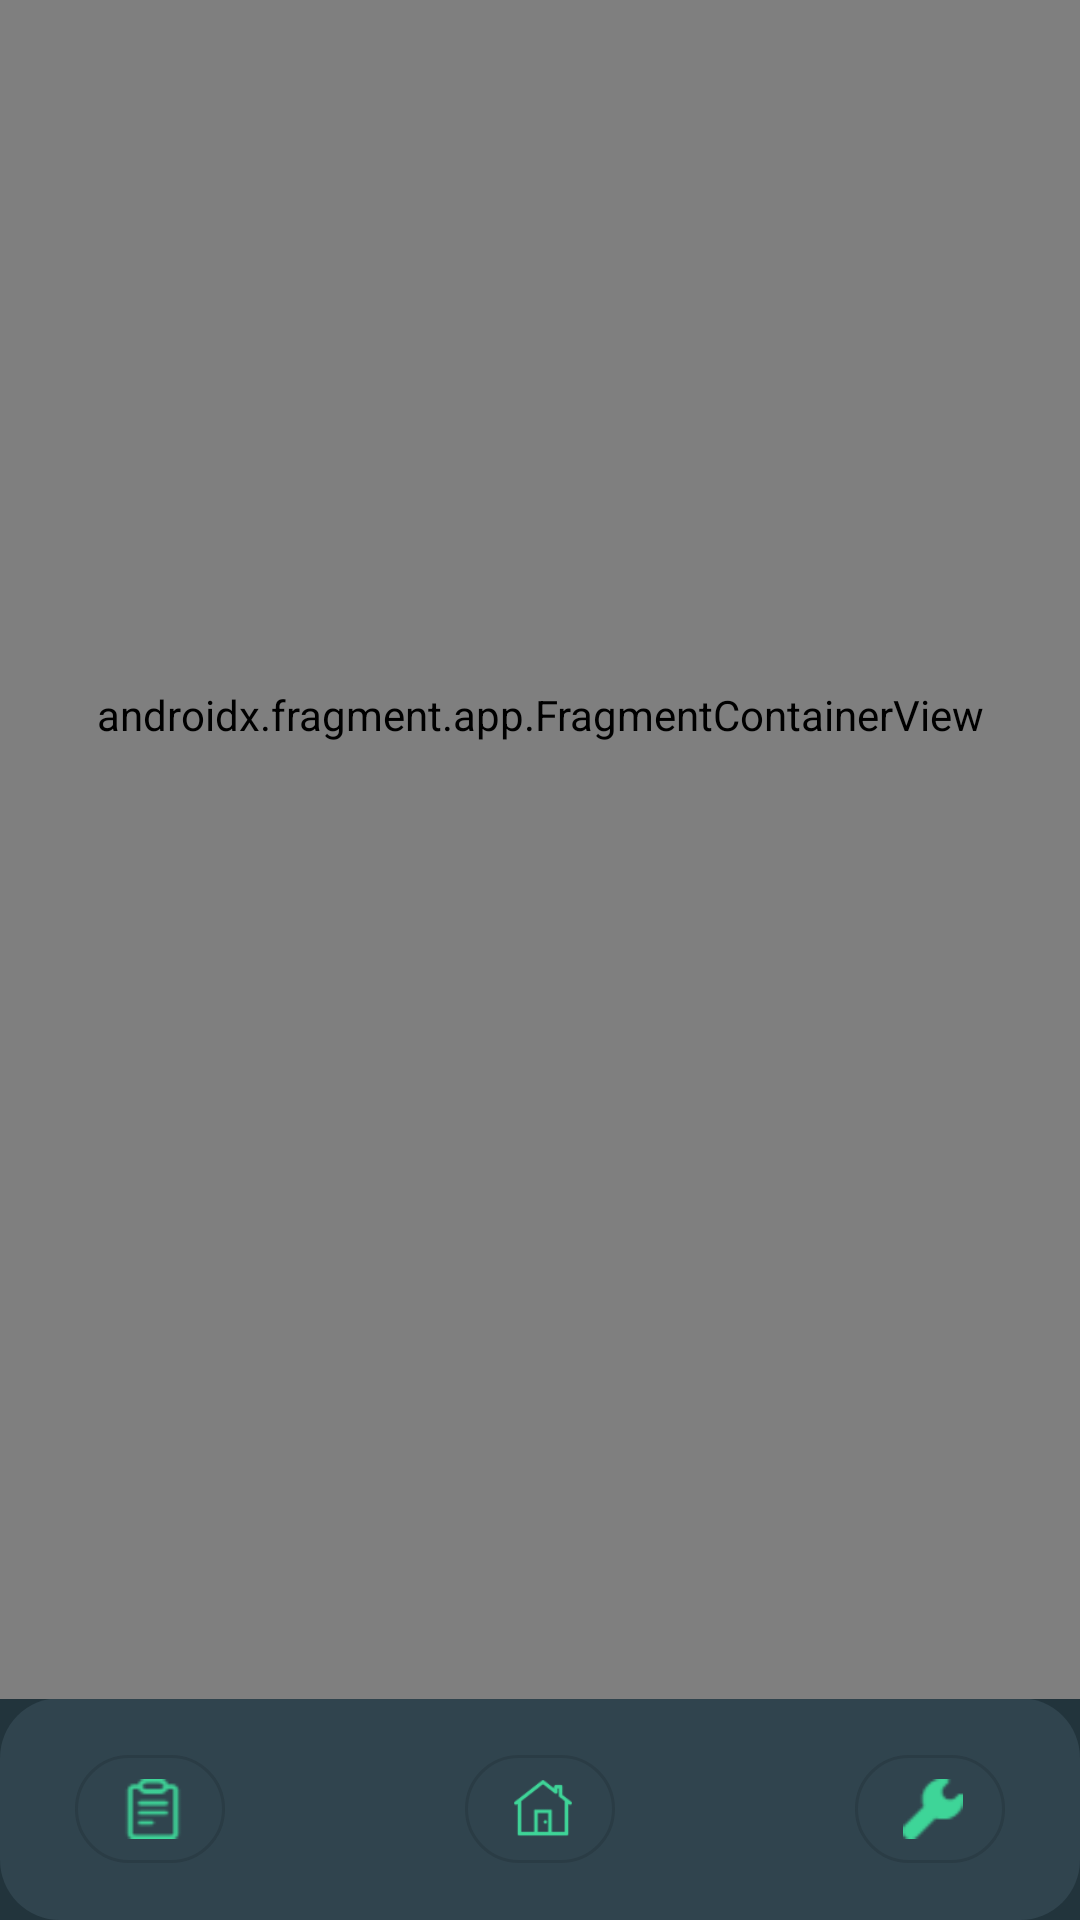

Where to tap for icons on this 1080*1920 app screen, as [x,y]:
Daily: [153,1809]
Home: [543,1808]
Settings: [933,1809]
